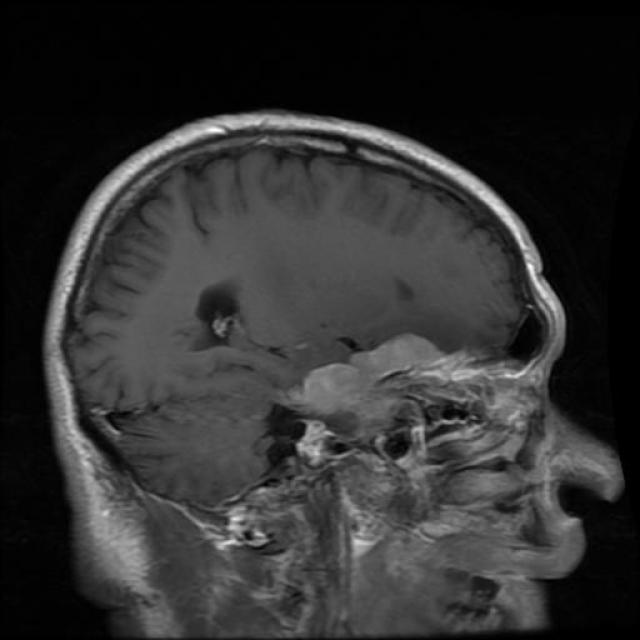meningioma: (304, 334, 445, 415)
